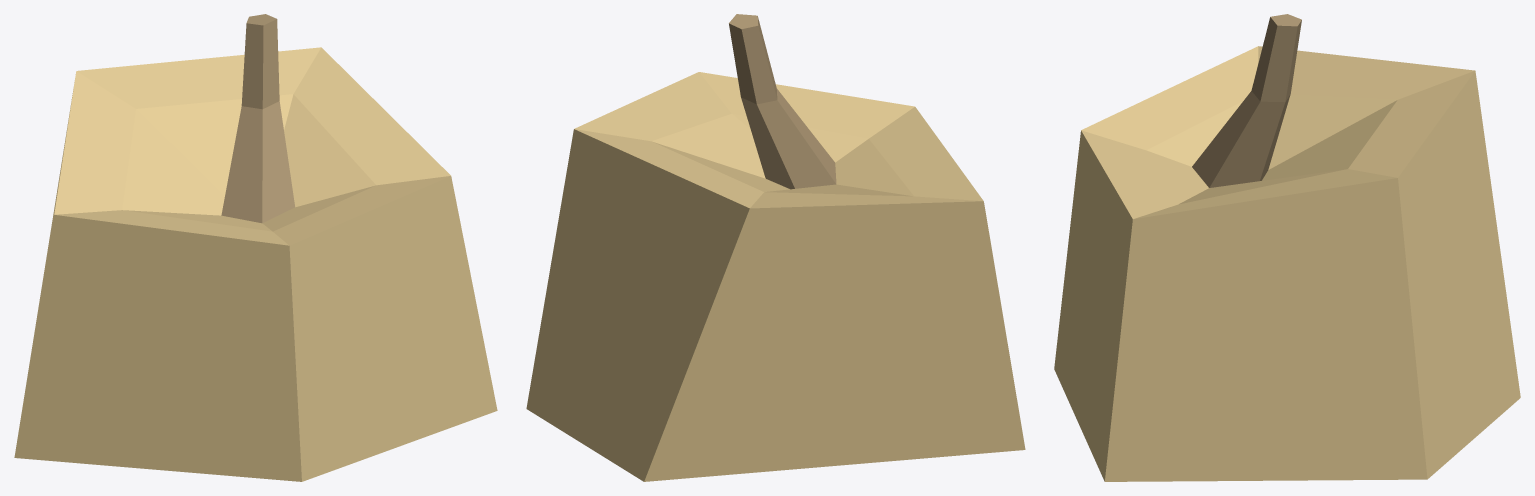
Rendered from SM_SM_Candle_01.fbx.
The picture shows the model from 3 angles, left to right: view 1: azimuth 30°, elevation 25°; view 2: azimuth 150°, elevation 25°; view 3: azimuth 270°, elevation 25°; orthographic projection. The views are drawn at different scales.
Parts seen in each view (by area): view 1: SM_Candle_01; view 2: SM_Candle_01; view 3: SM_Candle_01.
Boxes of the visible parts, x1,y1,x2,y2 form: SM_Candle_01: [14, 14, 497, 481]; SM_Candle_01: [526, 14, 1025, 481]; SM_Candle_01: [1054, 14, 1520, 481].
Bounding box in the file's own units: 17.29 × 14.71 × 16.15.
